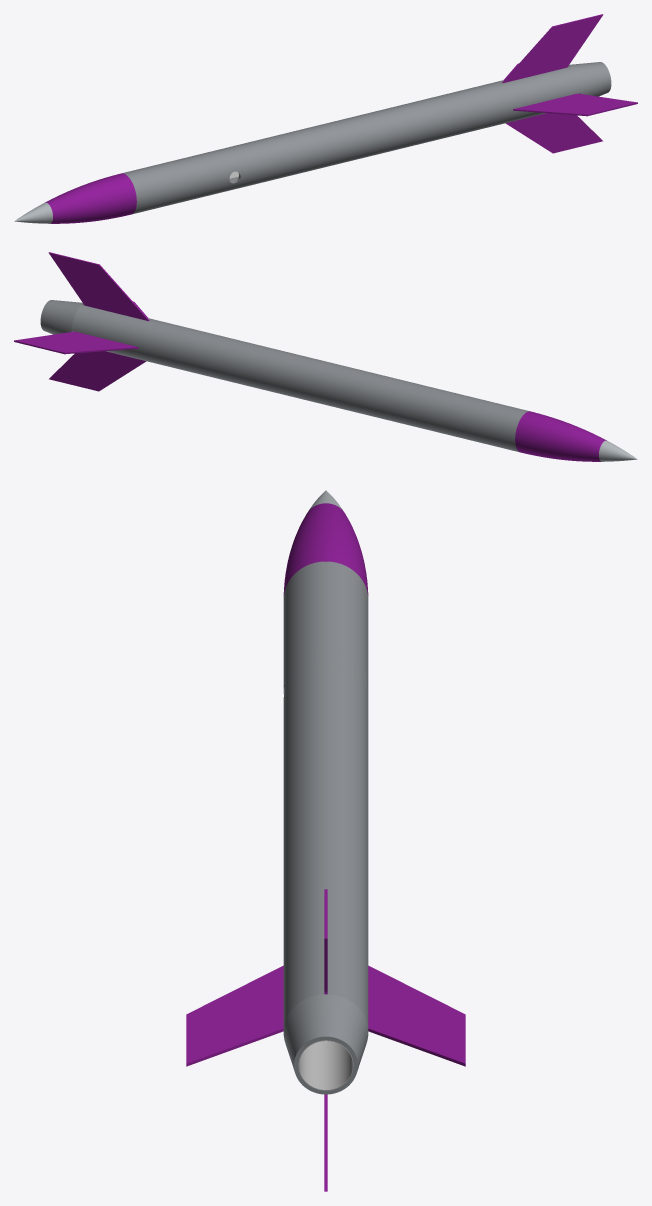
The model's file is cad2.gltf.
3 renders of one model, top to bottom at view 1: azimuth 30°, elevation 25°; view 2: azimuth 150°, elevation 25°; view 3: azimuth 270°, elevation 25°, orthographic. The views are drawn at different scales.
Visible parts, largest first — view 1: Part 1 (×9); view 2: Part 1 (×9); view 3: Part 1 (×8).
Part boxes in pixels (box(x1,y1,x2,y2)): Part 1 (×9): box(14, 14, 637, 223); Part 1 (×9): box(14, 252, 637, 461); Part 1 (×8): box(186, 503, 465, 1094).
Size of the model in its own units: 1.33 by 0.2735 by 0.2735.
